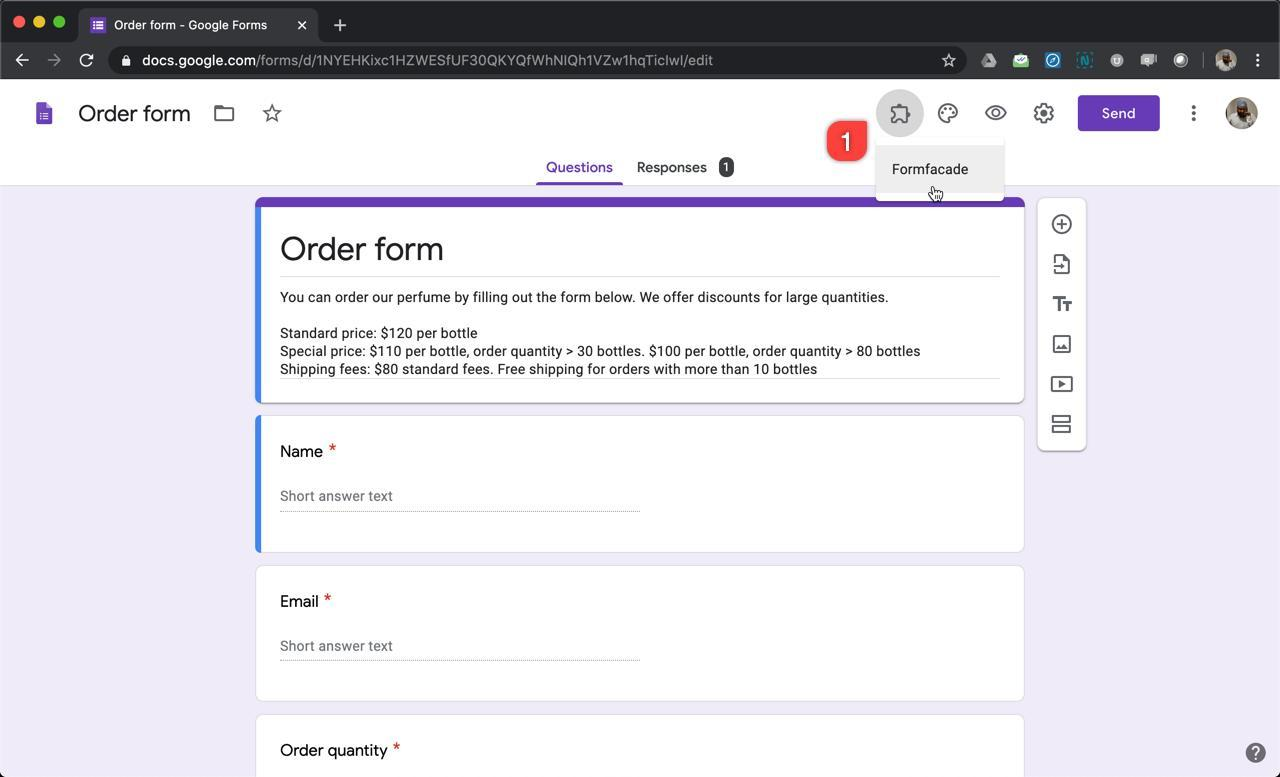button: (1079, 97, 1161, 131)
icon: (881, 92, 922, 138), (1222, 97, 1261, 136), (974, 97, 1017, 132), (930, 95, 966, 134), (1027, 97, 1060, 131), (1048, 331, 1077, 361), (1048, 250, 1076, 280), (1050, 411, 1078, 440), (1048, 289, 1076, 317), (209, 102, 240, 127), (1050, 371, 1076, 400), (1182, 101, 1206, 131), (1049, 212, 1077, 237), (262, 103, 284, 127)
label: (277, 740, 404, 763), (280, 438, 340, 464), (273, 593, 336, 614)
